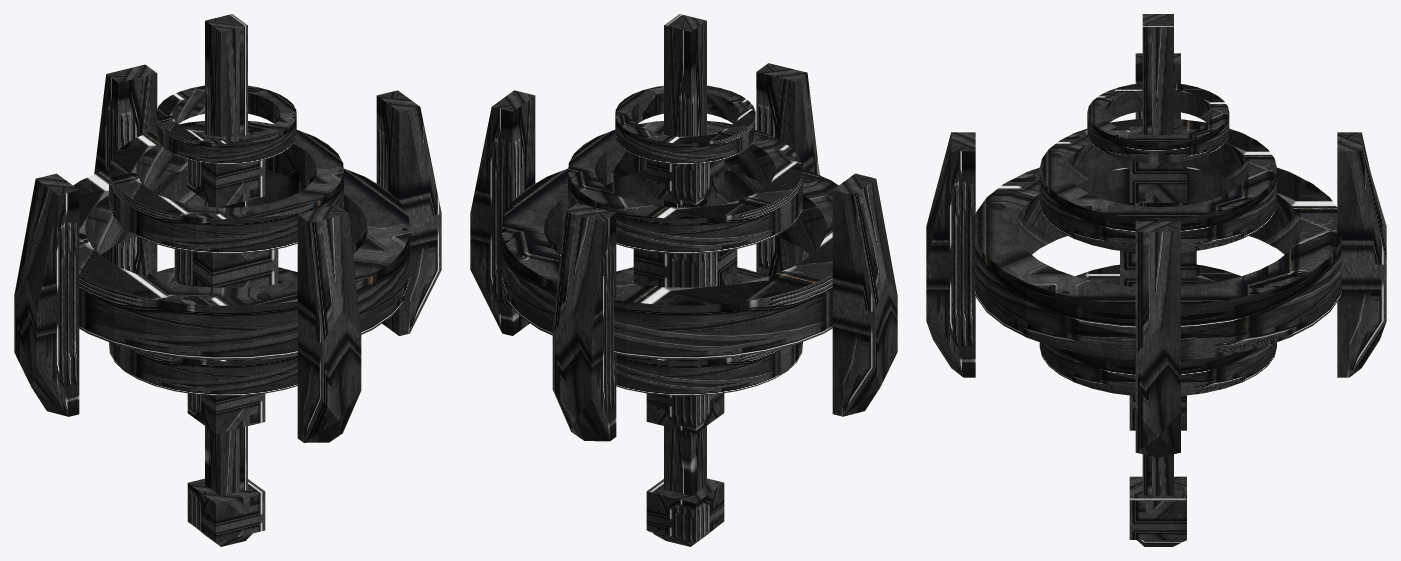
Rendered from Station.obj.
3 views of the same model, side by side, from view 1: azimuth 30°, elevation 25°; view 2: azimuth 150°, elevation 25°; view 3: azimuth 270°, elevation 25° (orthographic).
Parts seen in each view (by area): view 1: 立方体.005; view 2: 立方体.005; view 3: 立方体.005.
Part boxes in pixels (box(x1,y1,x2,y2)): 立方体.005: box(14, 14, 441, 546); 立方体.005: box(470, 14, 897, 546); 立方体.005: box(926, 14, 1386, 546).
Bounding box in the file's own units: 6.2 × 7.55 × 6.06.
1 material, 1 textured.
